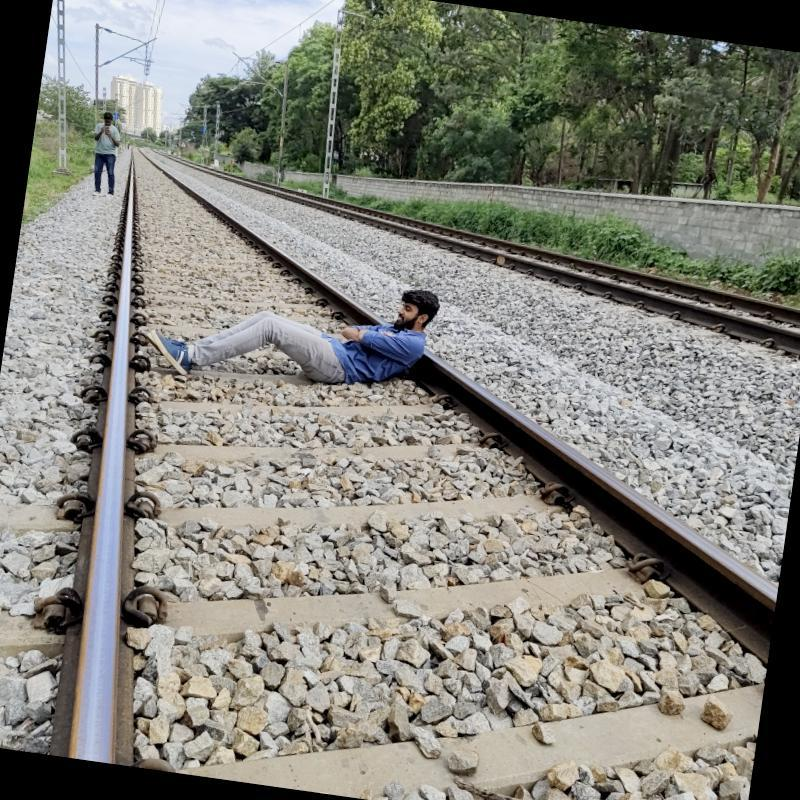sleeping: (135, 242, 442, 412)
